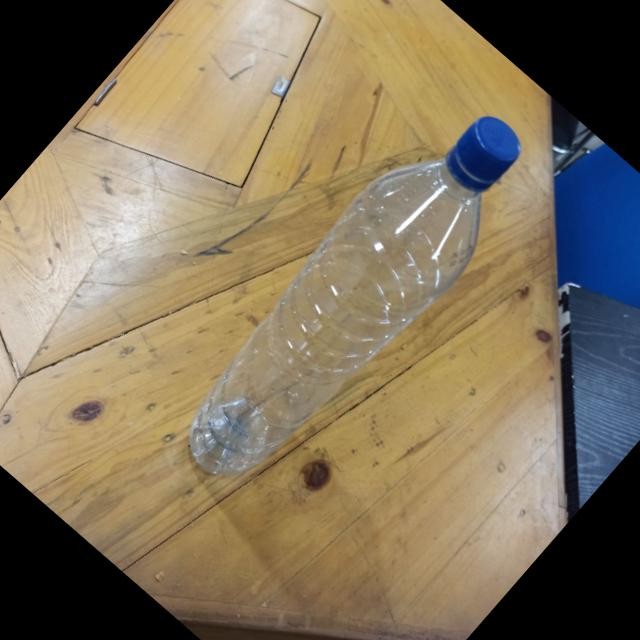BotolPlastik: (153, 78, 557, 515)
